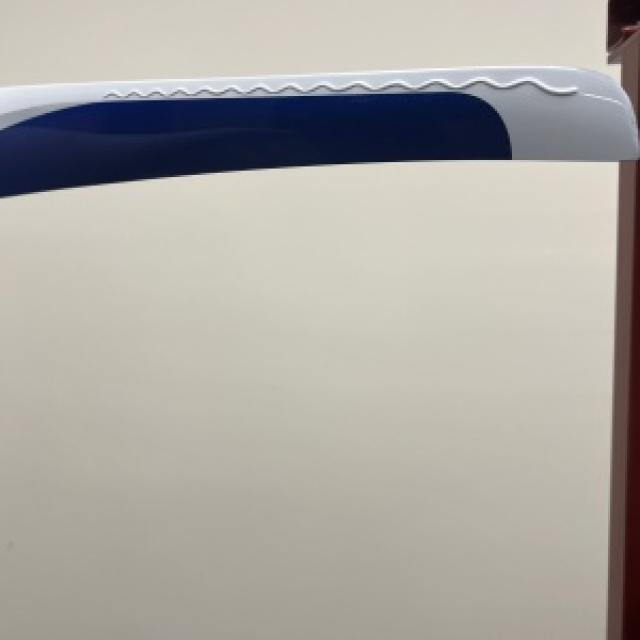healthy: (0, 68, 634, 638), (0, 68, 634, 192)
